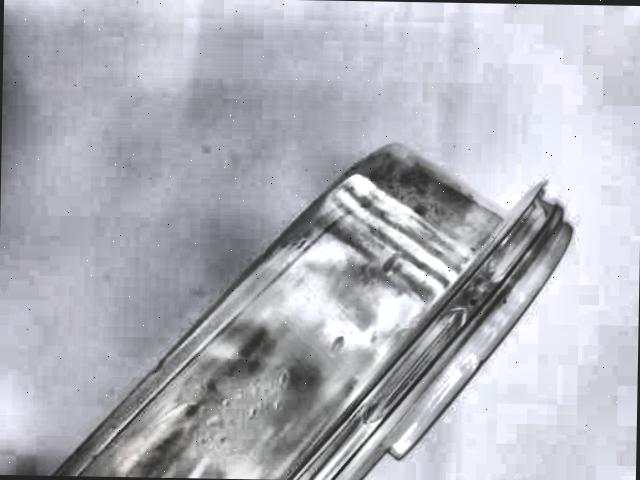Plastic: (57, 140, 590, 479)
